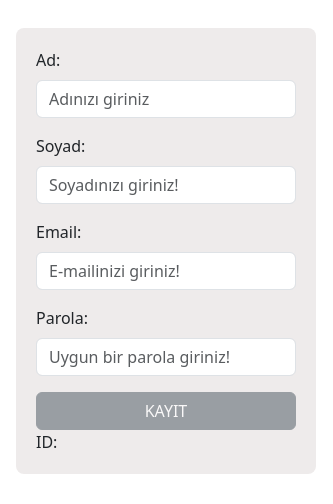
Test: Form Page › Error Messages › name input throws error for 1 charts
In the field with test id "ad-input": (166, 99) left=36, top=80, right=296, bottom=118, type "el"
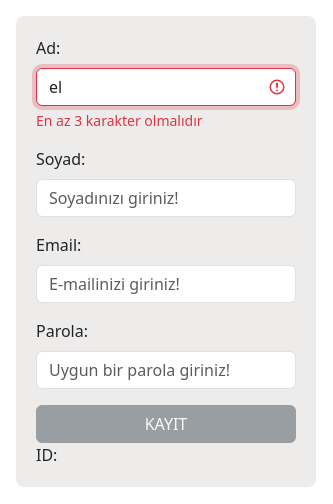
Expected: the text "En az 3 karakter olmalıdır" is shown, left=36, top=110, right=203, bottom=130
